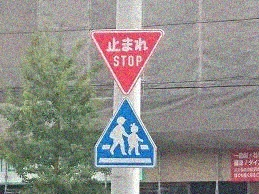Regulatory_sign_triangle: (90, 25, 165, 95)
